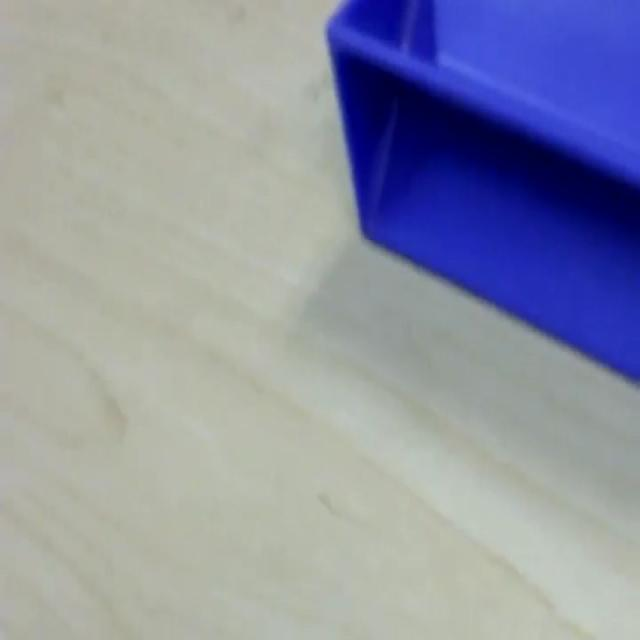blue_block: (324, 0, 638, 384)
